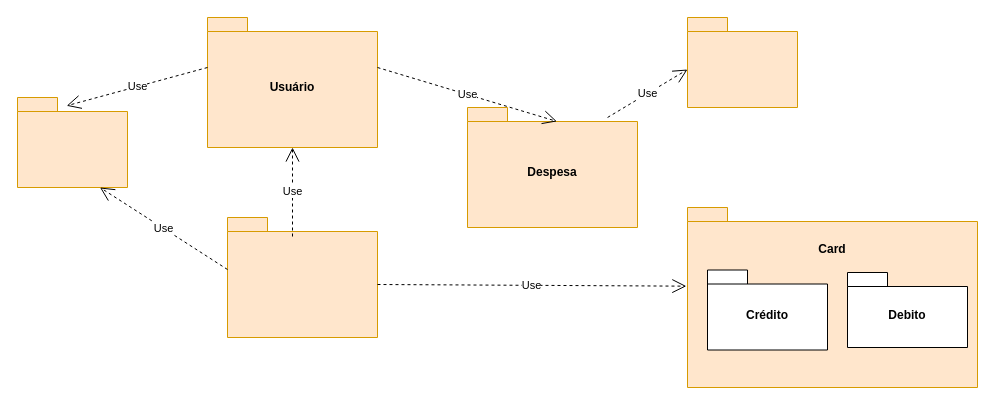
Some shapes in this 995 by 405 pixel diagram are drawn without their labels. Each missing label, with the centre of its shape:
"Categoria" belongs at point (742, 62).
"Controle financeiro" belongs at point (302, 277).
"Receita" belongs at point (72, 142).
